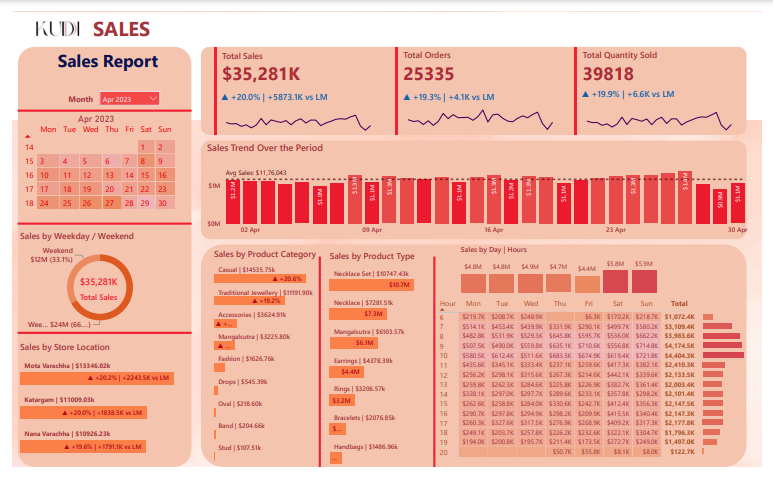

The page's visual inventory and layout, read from the dashboard file:
{"tool":"powerbi","page":{"name":"Page 1","canvas":[1400,850],"ordinal":0},"visuals":[{"type":"shape","box":[0,0,1400.8,200.6],"z":0},{"type":"shape","box":[10.2,64.6,324.7,785.4],"z":1000},{"type":"shape","box":[351.9,64.6,1020,164.9],"z":2000},{"type":"textbox","box":[146.2,0,134.3,66.3],"z":3000},{"type":"cardVisual","fields":{"Data":["Transactions.Total Orders"]},"box":[710.8,61.2,316.2,173.4],"z":4000,"group":"g2"},{"type":"cardVisual","fields":{"Data":["Transactions.Total Quantity Sold"]},"box":[1045.5,61.2,316.2,173.4],"z":4000,"group":"g3"},{"type":"cardVisual","fields":{"Data":["Transactions.Total Sales"]},"box":[371.8,61.6,316.2,173.4],"z":4000,"group":"g1"},{"type":"slicer","fields":{"Values":["Date Table.Month Year"]},"box":[158.1,142.8,122.4,47.6],"z":4000},{"type":"group","id":"g1","title":"Group 1","box":[371.8,61.6,316.2,173.4],"z":5000},{"type":"lineChart","fields":{"Category":["Date Table.Date.Variation.Date Hierarchy.Year","Date Table.Date.Variation.Date Hierarchy.Quarter","Date Table.Date.Variation.Date Hierarchy.Month","Date Table.Date.Variation.Date Hierarchy.Day"],"Y":["Transactions.Total Quantity Sold"]},"box":[1058.3,142.5,299.2,86.7],"z":5001,"group":"g3"},{"type":"lineChart","fields":{"Y":["Transactions.Total Sales"],"Category":["Date Table.Date.Variation.Date Hierarchy.Year","Date Table.Date.Variation.Date Hierarchy.Quarter","Date Table.Date.Variation.Date Hierarchy.Month","Date Table.Date.Variation.Date Hierarchy.Day"]},"box":[384.5,146.5,299.2,87.6],"z":5001,"group":"g1"},{"type":"lineChart","fields":{"Category":["Date Table.Date.Variation.Date Hierarchy.Year","Date Table.Date.Variation.Date Hierarchy.Quarter","Date Table.Date.Variation.Date Hierarchy.Month","Date Table.Date.Variation.Date Hierarchy.Day"],"Y":["Transactions.Total Orders"]},"box":[725.1,147.6,299.2,86.7],"z":5001,"group":"g2"},{"type":"group","id":"g2","title":"Group 1","box":[710.8,61.2,316.2,173.4],"z":6000},{"type":"group","id":"g3","title":"Group 1","box":[1045.5,61.2,316.2,173.4],"z":7000},{"type":"pivotTable","fields":{"Columns":["Date Table.Day Name"],"Values":["Min(Date Table.Day Number)"],"Rows":["Date Table.Week Number"]},"box":[13.6,200.6,297.5,224.4],"z":8000},{"type":"card","fields":{"Values":["Min(Date Table.Month Year)"]},"box":[112.2,175.1,90.1,49.3],"z":9000},{"type":"shape","box":[10.2,382.5,324.7,25.5],"z":10000},{"type":"shape","box":[10.2,171.7,324.7,25.5],"z":11000},{"type":"donutChart","title":"Sales by Weekday / Weekend","fields":{"Category":["Date Table.Weekday / Weekend"],"Y":["Transactions.Total Sales"]},"box":[10.2,408,307.7,192.1],"z":12000,"group":"g4"},{"type":"shape","box":[10.2,586.5,324.7,25.5],"z":12000},{"type":"group","id":"g4","title":"Group 2","box":[10.2,408,307.7,192.1],"z":13000},{"type":"card","fields":{"Values":["Transactions.Total Sales"]},"box":[120.7,486.5,81.6,56.8],"z":13000,"group":"g4"},{"type":"shape","box":[351.9,239.7,1020,185.3],"z":14000},{"type":"clusteredBarChart","title":"Sales by Store Location","fields":{"Category":["Transactions.store_location"],"Y":["Transactions.Placeholder","Transactions.Total Sales"]},"box":[10.2,613.7,324.7,219.3],"z":15000},{"type":"columnChart","title":"Sales Trend Over the Period","fields":{"Y":["Transactions.Total Sales"],"Category":["Transactions.transaction_date"]},"box":[358.7,239.7,1020,185.3],"z":16000},{"type":"shape","box":[351.9,433.5,1020,416.5],"z":17000},{"type":"clusteredBarChart","title":"Sales by Product Category","fields":{"Y":["Transactions.Placeholder","Transactions.Total Sales"],"Category":["Transactions.product_category"]},"box":[372.3,440.3,209.1,404.6],"z":18000},{"type":"shape","box":[567.8,457.3,13.6,392.7],"z":19000},{"type":"shape","box":[775.2,457.3,27.2,392.7],"z":20000},{"type":"clusteredBarChart","title":"Sales by Product Type","fields":{"Y":["Transactions.Placeholder","Transactions.Total Sales"],"Category":["Transactions.product_type"]},"box":[588.2,445.4,200.6,404.6],"z":21000},{"type":"pivotTable","fields":{"Rows":["Transactions.Hour"],"Columns":["Date Table.Day Name"],"Values":["Transactions.Total Sales"]},"box":[788.8,530.4,496.4,314.5],"z":22000},{"type":"barChart","fields":{"Y":["Transactions.Total Sales"],"Category":["Transactions.Hour"]},"box":[1285.2,549.1,113.9,283.9],"z":23000},{"type":"columnChart","title":"Sales by Day | Hours","fields":{"Y":["Transactions.Total Sales"],"Category":["Date Table.Day Name"]},"box":[833,433.5,375.7,96.9],"z":24000},{"type":"textbox","box":[100.3,147.9,73.1,30.6],"z":25000},{"type":"textbox","box":[79.9,62.9,215.9,54.4],"z":26000},{"type":"image","box":[0,0,173.4,61.2],"z":27000}]}

Visuals, with their boxes in screenshot pixels (x1, y1, x2, y2), scaled from the page's 1400x850 canvas onto the 773x478 screenshot:
shape: l=0, t=0, r=772, b=113
shape: l=6, t=36, r=185, b=477
shape: l=194, t=36, r=757, b=129
textbox: l=81, t=0, r=155, b=37
cardVisual - Transactions.Total Orders: l=392, t=34, r=567, b=132
cardVisual - Transactions.Total Quantity Sold: l=577, t=34, r=752, b=132
cardVisual - Transactions.Total Sales: l=205, t=35, r=380, b=132
slicer - Date Table.Month Year: l=87, t=80, r=155, b=107
"Group 1" group: l=205, t=35, r=380, b=132
lineChart - Date Table.Date.Variation.Date Hierarchy.Year x Date Table.Date.Variation.Date Hierarchy.Quarter: l=584, t=80, r=750, b=129
lineChart - Transactions.Total Sales x Date Table.Date.Variation.Date Hierarchy.Year: l=212, t=82, r=378, b=132
lineChart - Date Table.Date.Variation.Date Hierarchy.Year x Date Table.Date.Variation.Date Hierarchy.Quarter: l=400, t=83, r=566, b=132
"Group 1" group: l=392, t=34, r=567, b=132
"Group 1" group: l=577, t=34, r=752, b=132
pivotTable - Date Table.Day Name x Min(Date Table.Day Number): l=8, t=113, r=172, b=239
card - Min(Date Table.Month Year): l=62, t=98, r=112, b=126
shape: l=6, t=215, r=185, b=229
shape: l=6, t=97, r=185, b=111
"Sales by Weekday / Weekend" donutChart: l=6, t=229, r=176, b=337
shape: l=6, t=330, r=185, b=344
"Group 2" group: l=6, t=229, r=176, b=337
card - Transactions.Total Sales: l=67, t=274, r=112, b=306
shape: l=194, t=135, r=757, b=239
"Sales by Store Location" clusteredBarChart: l=6, t=345, r=185, b=468
"Sales Trend Over the Period" columnChart: l=198, t=135, r=761, b=239
shape: l=194, t=244, r=757, b=477
"Sales by Product Category" clusteredBarChart: l=206, t=248, r=321, b=475
shape: l=314, t=257, r=321, b=477
shape: l=428, t=257, r=443, b=477
"Sales by Product Type" clusteredBarChart: l=325, t=250, r=436, b=477
pivotTable - Transactions.Hour x Date Table.Day Name: l=436, t=298, r=710, b=475
barChart - Transactions.Total Sales x Transactions.Hour: l=710, t=309, r=772, b=468
"Sales by Day | Hours" columnChart: l=460, t=244, r=667, b=298
textbox: l=55, t=83, r=96, b=100
textbox: l=44, t=35, r=163, b=66
image: l=0, t=0, r=96, b=34
